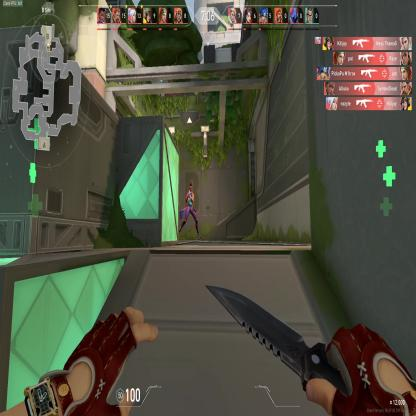enemy: (178, 180, 202, 241)
